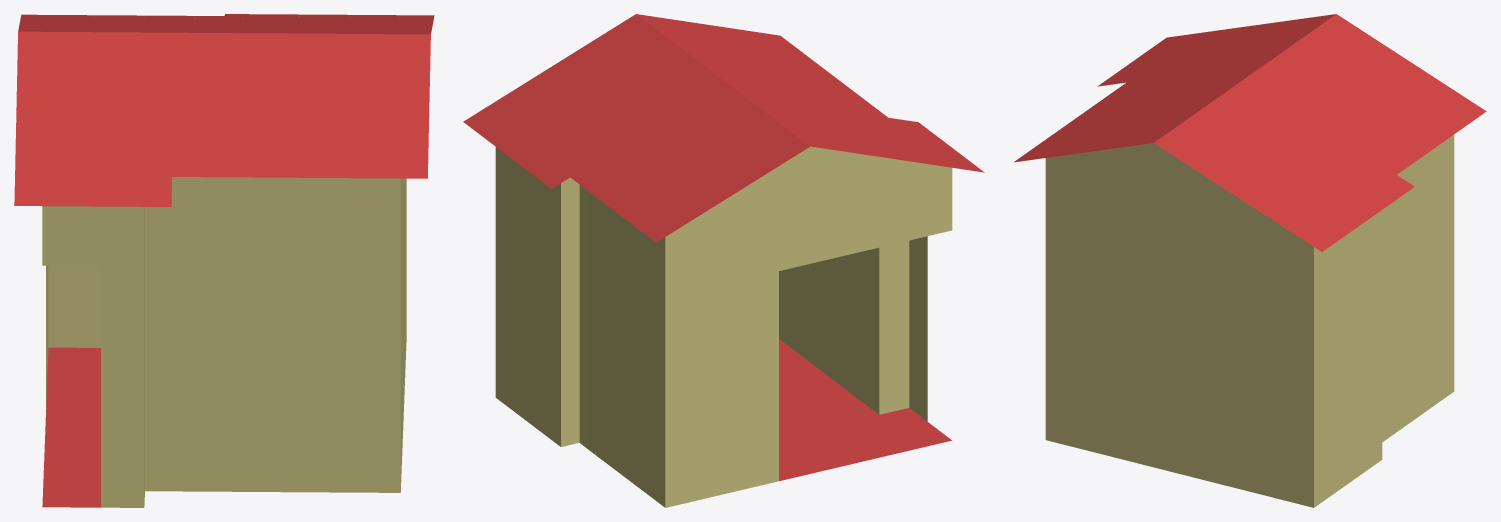
3 renders of one model, left to right at view 1: azimuth 30°, elevation 25°; view 2: azimuth 150°, elevation 25°; view 3: azimuth 270°, elevation 25°, orthographic. The views are drawn at different scales.
Visible parts, largest first — view 1: group_5, group_3, group_4, group_6; view 2: group_5, group_3, group_4, group_6; view 3: group_5, group_3, group_4.
Boxes of the visible parts, x1=… form: group_5: x1=42, y1=16, x2=406, y2=507; group_3: x1=14, y1=16, x2=430, y2=206; group_4: x1=14, y1=14, x2=434, y2=206; group_6: x1=42, y1=347, x2=100, y2=507; group_5: x1=495, y1=146, x2=952, y2=507; group_3: x1=496, y1=14, x2=984, y2=220; group_4: x1=463, y1=14, x2=983, y2=242; group_6: x1=779, y1=339, x2=951, y2=481; group_5: x1=1045, y1=134, x2=1454, y2=507; group_3: x1=1046, y1=14, x2=1453, y2=229; group_4: x1=1014, y1=14, x2=1486, y2=251.
Size of the model in its own units: 16.04 by 14.96 by 11.71.
